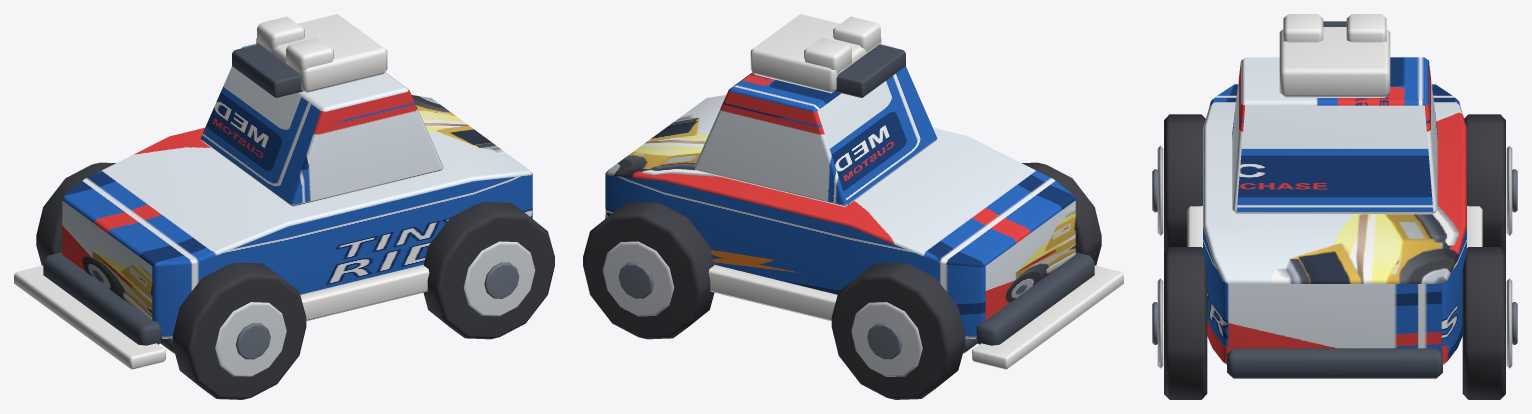
3 renders of one model, left to right at view 1: azimuth 30°, elevation 25°; view 2: azimuth 150°, elevation 25°; view 3: azimuth 270°, elevation 25°, orthographic. The views are drawn at different scales.
Visible parts, largest first — view 1: RC-02_connected_shell, RC-02_cabin, Tire, Tire.002, custom equipment, custom chin, front bumper, custom side guard, Rim.002, Rim, beacon mount, Tire.001 (+4 smaller); view 2: RC-02_connected_shell, RC-02_cabin, Tire.001, Tire.003, custom equipment, custom chin, front bumper, custom side guard.001, Rim.003, Rim.001, beacon mount, Tire (+4 smaller); view 3: RC-02_connected_shell, RC-02_cabin, custom equipment, rear bumper, Tire.002, Tire.003, Tire, Tire.001, beacon lens, beacon lens.001, custom side guard, custom side guard.001 (+4 smaller).
Boxes of the visible parts, x1=… form: RC-02_connected_shell: x1=62, y1=95, x2=532, y2=338; RC-02_cabin: x1=200, y1=44, x2=443, y2=206; Tire: x1=172, y1=262, x2=306, y2=399; Tire.002: x1=423, y1=202, x2=554, y2=339; custom equipment: x1=256, y1=14, x2=387, y2=93; custom chin: x1=14, y1=265, x2=165, y2=369; front bumper: x1=43, y1=252, x2=161, y2=345; custom side guard: x1=300, y1=264, x2=429, y2=320; Rim.002: x1=463, y1=241, x2=535, y2=316; Rim: x1=215, y1=302, x2=286, y2=376; beacon mount: x1=232, y1=44, x2=303, y2=97; Tire.001: x1=36, y1=162, x2=115, y2=265; RC-02_connected_shell: x1=605, y1=95, x2=1075, y2=338; RC-02_cabin: x1=694, y1=44, x2=937, y2=206; Tire.001: x1=831, y1=262, x2=965, y2=399; Tire.003: x1=583, y1=202, x2=714, y2=339; custom equipment: x1=750, y1=14, x2=881, y2=93; custom chin: x1=972, y1=265, x2=1123, y2=369; front bumper: x1=976, y1=252, x2=1094, y2=345; custom side guard.001: x1=708, y1=264, x2=837, y2=320; Rim.003: x1=602, y1=241, x2=674, y2=316; Rim.001: x1=851, y1=302, x2=922, y2=376; beacon mount: x1=834, y1=44, x2=905, y2=97; Tire: x1=1022, y1=162, x2=1101, y2=265; RC-02_connected_shell: x1=1203, y1=84, x2=1466, y2=364; RC-02_cabin: x1=1232, y1=57, x2=1437, y2=214; custom equipment: x1=1279, y1=27, x2=1390, y2=97; rear bumper: x1=1227, y1=348, x2=1442, y2=378; Tire.002: x1=1164, y1=247, x2=1207, y2=399; Tire.003: x1=1462, y1=247, x2=1505, y2=399; Tire: x1=1164, y1=114, x2=1205, y2=252; Tire.001: x1=1464, y1=114, x2=1505, y2=252; beacon lens: x1=1283, y1=14, x2=1323, y2=42; beacon lens.001: x1=1346, y1=14, x2=1386, y2=42; custom side guard: x1=1187, y1=205, x2=1202, y2=247; custom side guard.001: x1=1467, y1=205, x2=1482, y2=247.
Bounding box in the file's own units: 322 × 201 × 219.
